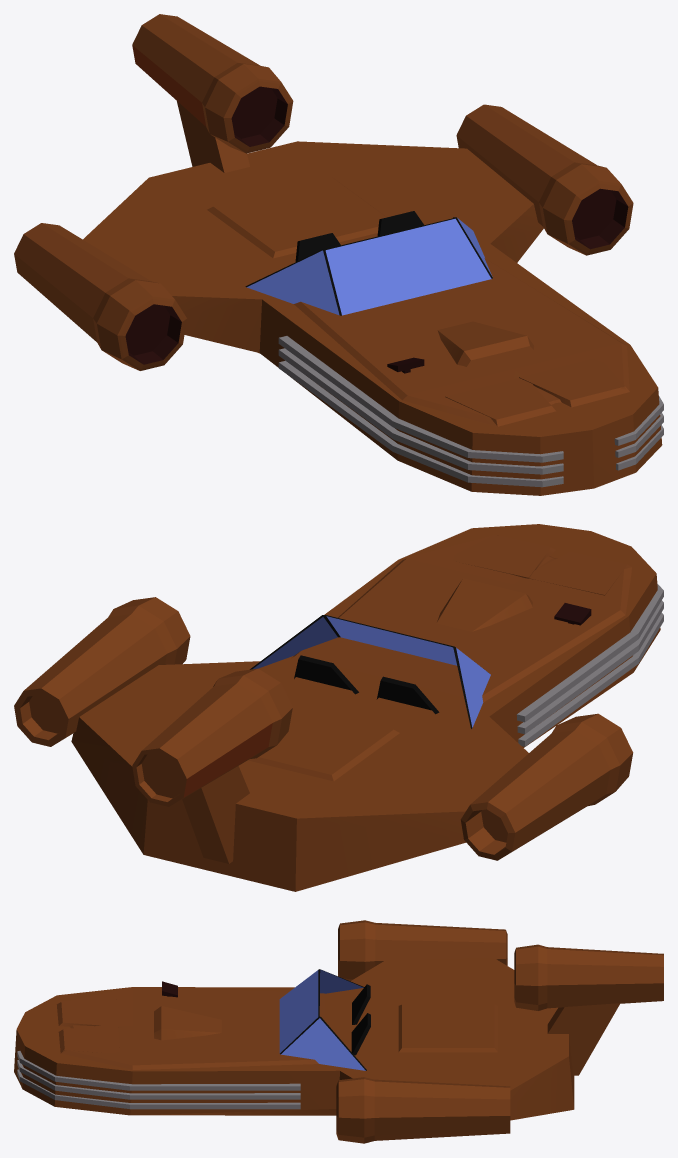
File: Landspeeder.fbx
3 renders of one model, top to bottom at view 1: azimuth 30°, elevation 25°; view 2: azimuth 150°, elevation 25°; view 3: azimuth 270°, elevation 25°, orthographic. The views are drawn at different scales.
Visible parts, largest first — view 1: Landspeeder; view 2: Landspeeder; view 3: Landspeeder.
Part boxes in pixels (x1=…): Landspeeder: x1=14, y1=14, x2=663, y2=495; Landspeeder: x1=14, y1=524, x2=663, y2=891; Landspeeder: x1=14, y1=920, x2=663, y2=1143.
Size of the model in its own units: 5.5 by 1.85 by 7.92.
